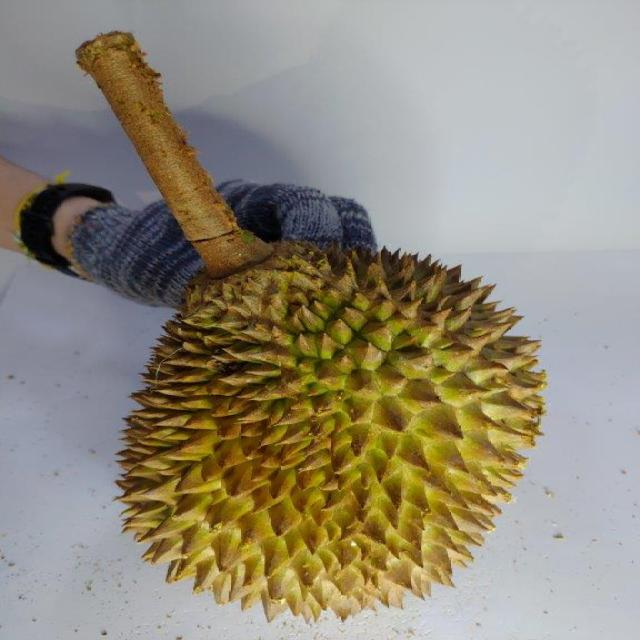mature: (118, 236, 550, 621)
